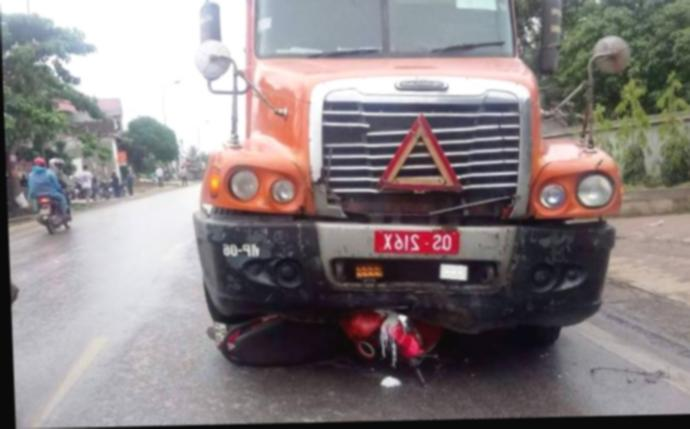License_Plate: (369, 224, 463, 259)
